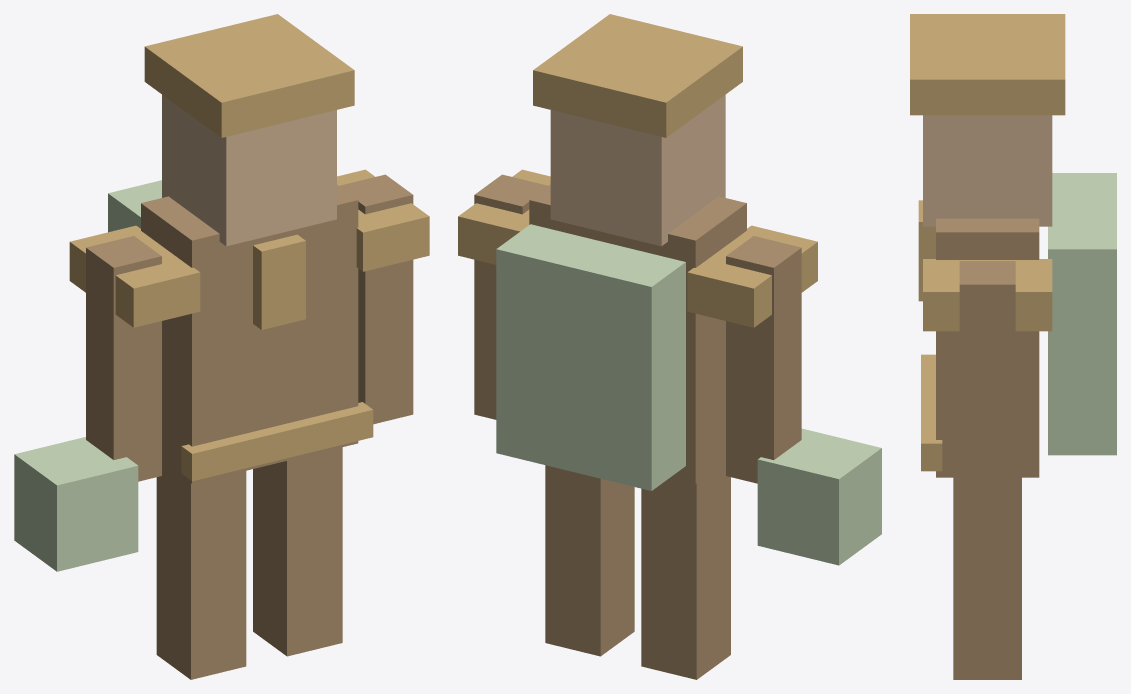
Rendered from 03_vela_signalborn_diver_at_inferno.glb.
3 views of the same model, side by side, from view 1: azimuth 30°, elevation 25°; view 2: azimuth 150°, elevation 25°; view 3: azimuth 270°, elevation 25° (orthographic).
Visible parts, largest first — view 1: Vela Signalborn, Diver at Inferno; view 2: Vela Signalborn, Diver at Inferno; view 3: Vela Signalborn, Diver at Inferno.
Part boxes in pixels (x1,y1,x2,y2): Vela Signalborn, Diver at Inferno: (14,14,429,679); Vela Signalborn, Diver at Inferno: (458,14,881,679); Vela Signalborn, Diver at Inferno: (910,14,1116,679).
Size of the model in its own units: 1.07 by 1.65 by 0.5178.
